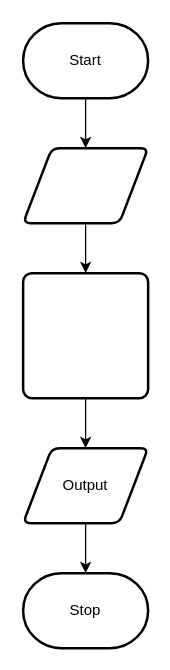
This 170x670 diagram has some shape labels left out. The box of each missing label's shape, as (x1, y1, x2, y2) in pixels:
convert url to json: (21, 271, 149, 399)
get url adress: (21, 146, 149, 224)
